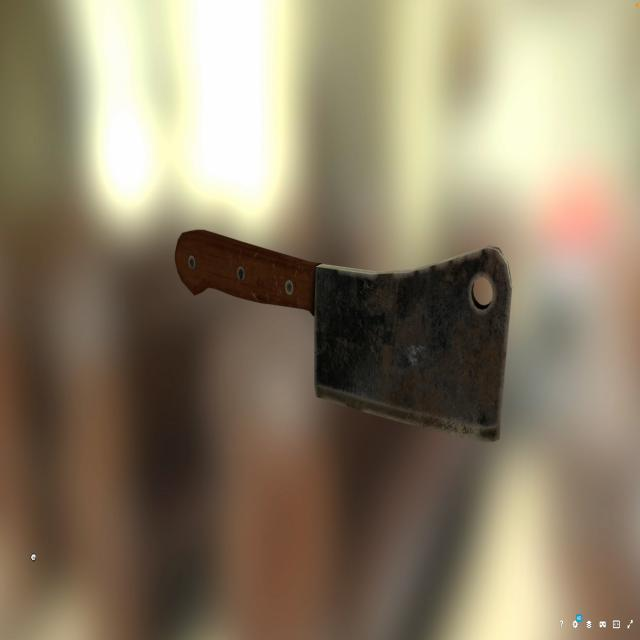cleaver: (178, 226, 504, 446)
